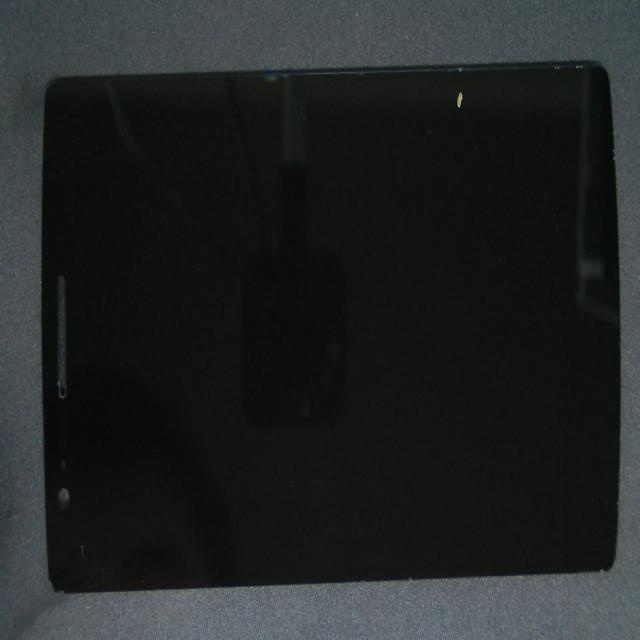stain: (221, 73, 640, 219)
